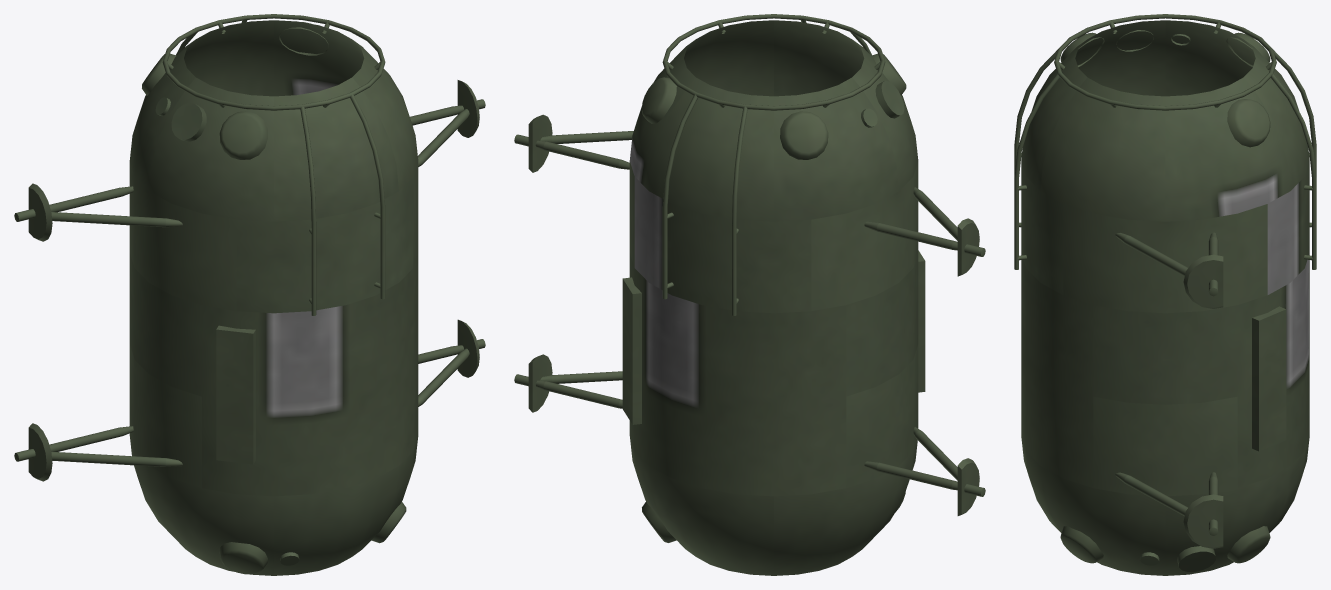
File: mira_crew_s1_1.obj
3 renders of one model, left to right at view 1: azimuth 30°, elevation 25°; view 2: azimuth 150°, elevation 25°; view 3: azimuth 270°, elevation 25°, orthographic.
Visible parts, largest first — view 1: 1; view 2: 1; view 3: 1.
Part boxes in pixels (bbox=[...]): 1: bbox=[14, 14, 485, 575]; 1: bbox=[514, 14, 985, 575]; 1: bbox=[1014, 14, 1316, 575].
Size of the model in its own units: 2.81 by 2.75 by 1.57.
